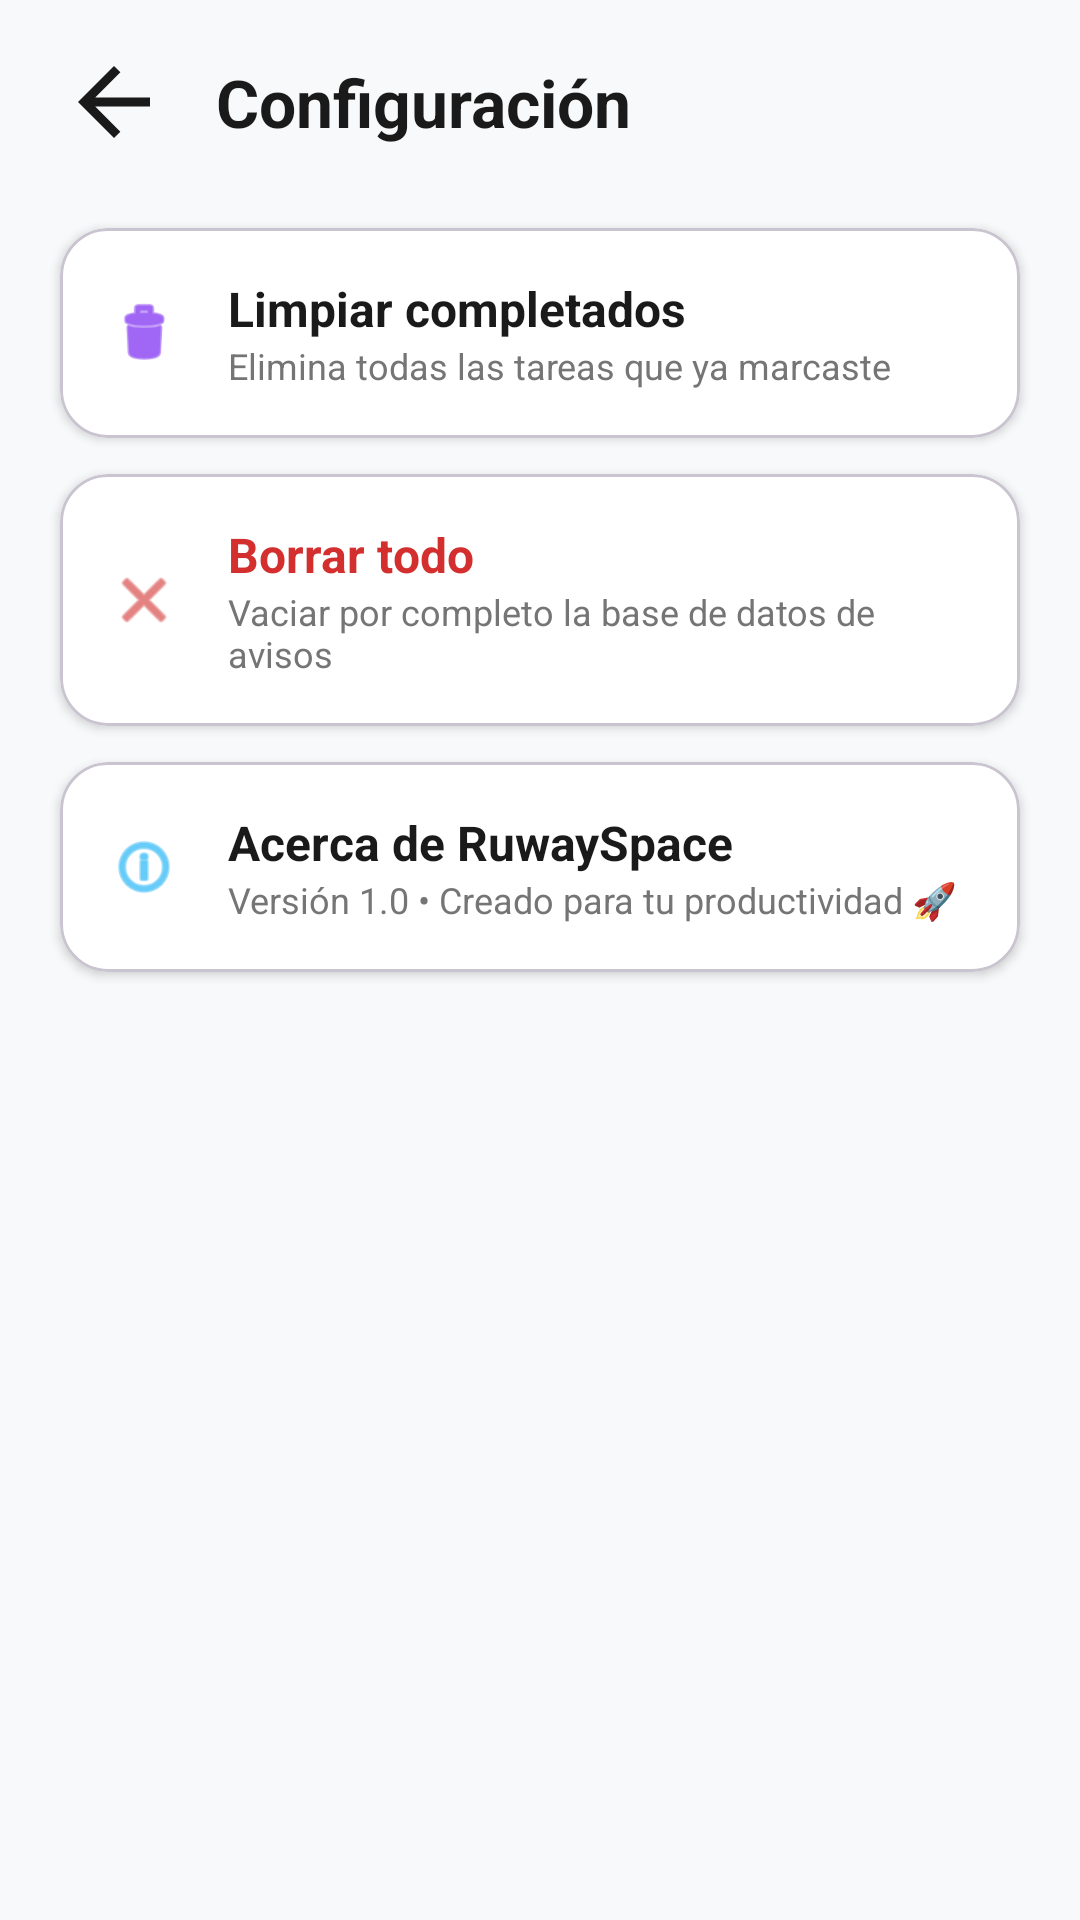

Icons on this 1080*1920 Android screen, each with the point to tap as (x,y):
close clear cancel: (144,600)
delete: (144,332)
info details: (144,867)
Volver: (114,102)
